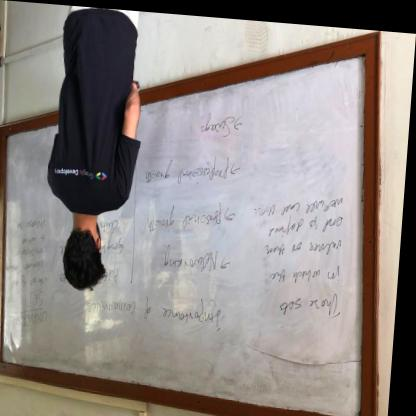Handwritten text: (86, 286, 231, 335), (145, 193, 231, 237), (249, 182, 352, 218), (144, 148, 231, 190), (268, 255, 349, 288), (261, 206, 356, 234), (263, 229, 351, 259), (278, 284, 346, 321), (164, 237, 222, 275), (196, 98, 235, 138), (9, 308, 58, 334), (9, 273, 54, 291), (15, 214, 53, 234), (9, 258, 52, 275), (11, 244, 50, 260), (30, 286, 54, 311), (18, 234, 53, 248)
Lecturer: (34, 44, 150, 295)
Whiteboard: (0, 42, 370, 416)
